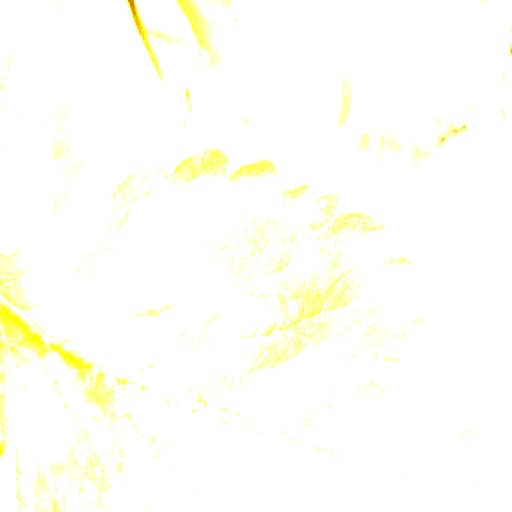Leaf Spot: (0, 140, 484, 511)
